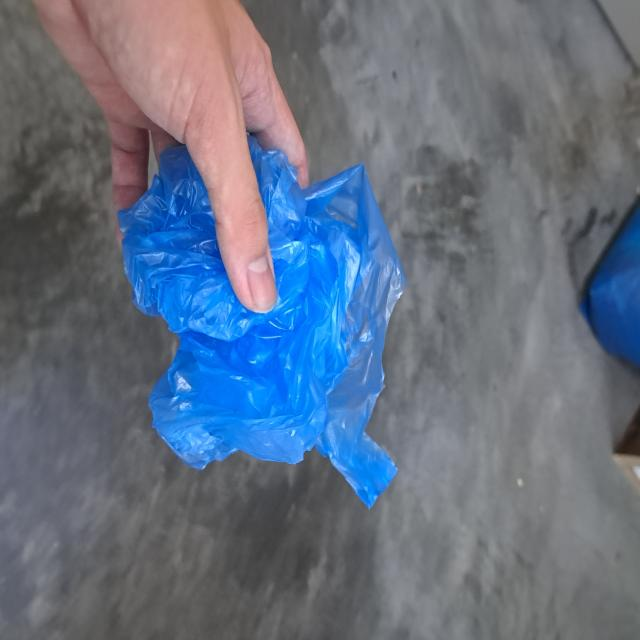plastic bag: (126, 141, 400, 506)
